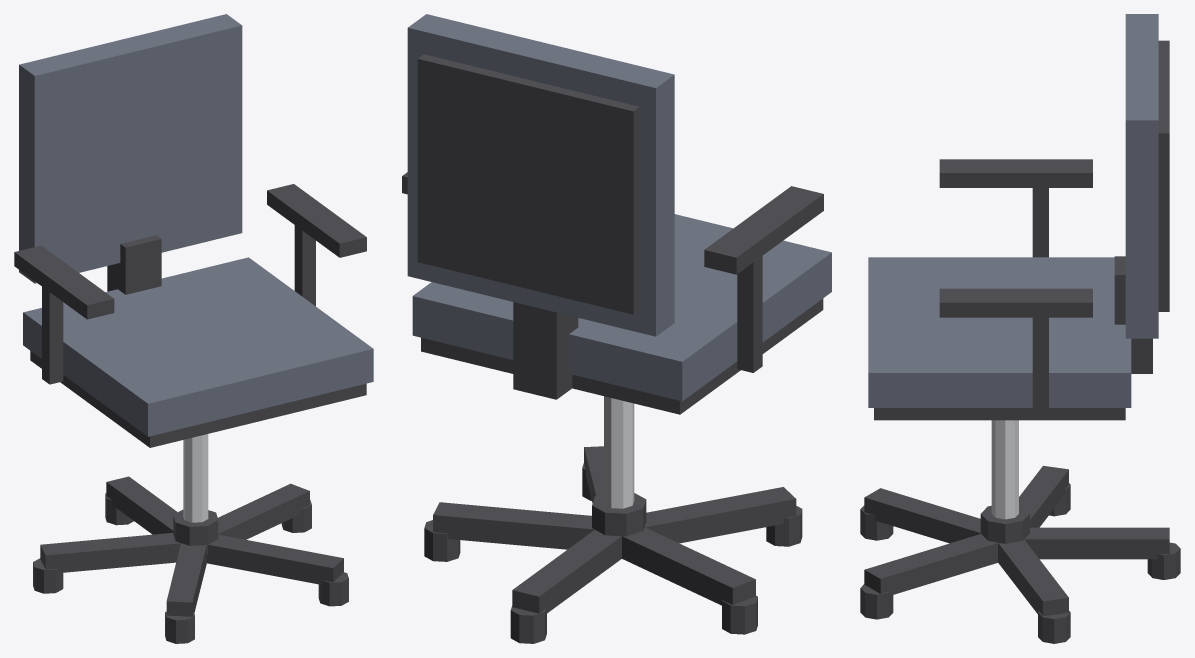
File: OfficeChair.fbx
The picture shows the model from 3 angles, left to right: view 1: azimuth 30°, elevation 25°; view 2: azimuth 150°, elevation 25°; view 3: azimuth 270°, elevation 25°; orthographic projection. The views are drawn at different scales.
Visible parts, largest first — view 1: OfficeChair; view 2: OfficeChair; view 3: OfficeChair.
Part boxes in pixels (<box>): OfficeChair: <box>14,14,373,643</box>; OfficeChair: <box>402,14,831,643</box>; OfficeChair: <box>860,14,1180,643</box>.
Bounding box in the file's own units: 0.62 × 1.02 × 0.5846.
